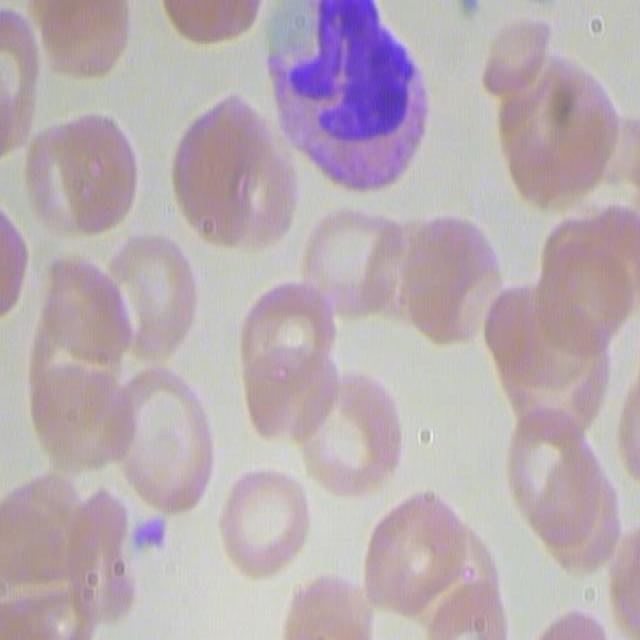RBC: (0, 468, 132, 637), (168, 97, 296, 265), (364, 205, 503, 352), (494, 57, 622, 216), (44, 261, 132, 492), (507, 408, 623, 575), (232, 269, 342, 437), (100, 362, 217, 514), (490, 294, 615, 435), (23, 104, 142, 243), (292, 369, 405, 507), (357, 492, 468, 626), (538, 196, 638, 343), (105, 226, 200, 354), (302, 200, 401, 322), (216, 461, 310, 579), (26, 0, 130, 80), (479, 10, 559, 110), (0, 3, 40, 173), (277, 574, 373, 640), (153, 0, 270, 47), (607, 515, 640, 638)
WBC: (274, 0, 436, 202)
platelets: (123, 508, 172, 566)
